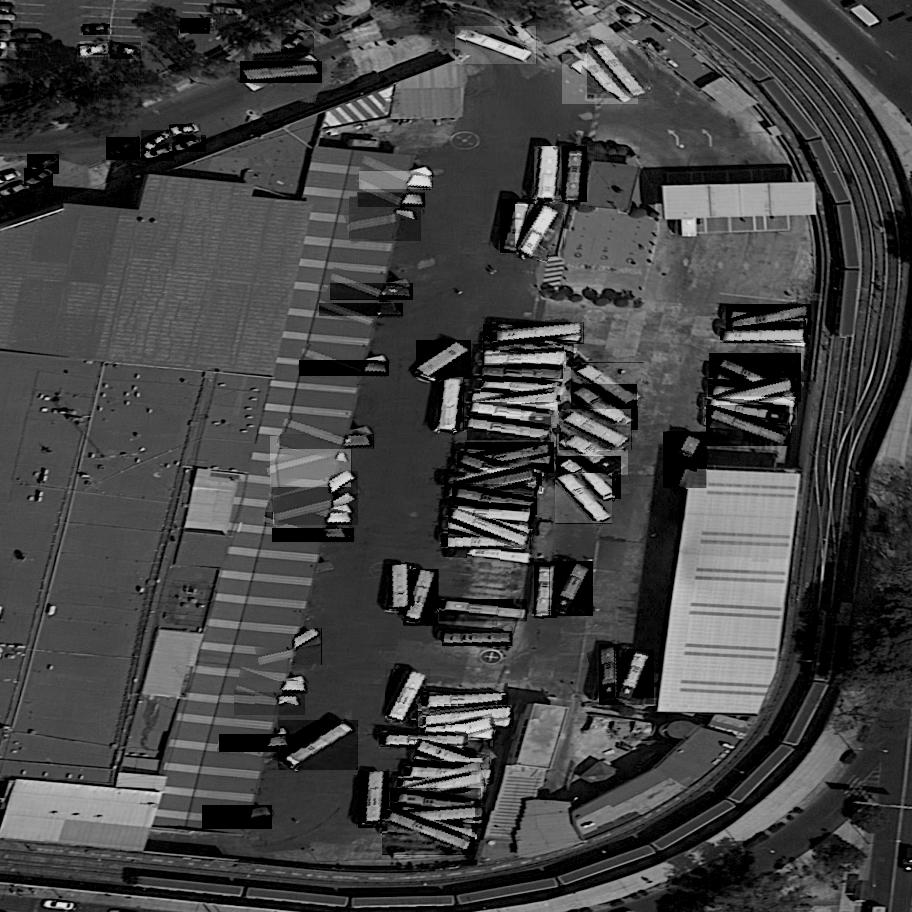large-vehicle: (274, 469, 359, 528), (710, 353, 801, 405), (270, 435, 352, 492), (382, 807, 475, 857), (278, 717, 358, 775), (562, 51, 639, 108), (588, 35, 649, 105), (483, 324, 575, 368), (571, 359, 644, 410), (449, 506, 531, 550), (572, 380, 638, 434), (351, 195, 422, 245), (554, 469, 612, 530), (707, 405, 791, 447), (559, 406, 632, 453), (458, 452, 543, 492), (455, 24, 537, 65), (557, 431, 628, 478), (556, 453, 621, 504), (707, 378, 800, 412), (443, 469, 537, 502), (385, 666, 431, 729), (516, 202, 565, 261), (463, 443, 555, 474), (416, 740, 491, 778), (397, 772, 487, 803), (663, 430, 708, 490), (453, 485, 537, 517), (550, 559, 594, 619), (391, 788, 481, 817), (725, 305, 812, 335), (704, 397, 797, 425), (416, 338, 472, 383), (259, 627, 322, 667), (616, 647, 655, 707), (470, 402, 558, 428), (418, 705, 513, 728), (404, 568, 441, 627), (425, 717, 496, 747), (500, 197, 536, 256), (439, 600, 527, 624), (468, 417, 552, 442), (481, 376, 567, 400), (491, 323, 584, 345), (234, 689, 305, 717), (241, 61, 322, 85), (359, 769, 390, 830), (471, 391, 560, 412), (202, 805, 272, 831), (397, 807, 486, 827), (448, 504, 532, 524), (467, 545, 535, 568), (404, 767, 494, 784), (534, 145, 561, 200), (422, 692, 508, 709), (439, 376, 465, 432), (358, 171, 433, 190), (563, 145, 587, 204), (442, 534, 529, 550), (281, 434, 373, 449), (299, 361, 389, 376), (220, 734, 291, 753), (484, 352, 567, 368), (330, 284, 413, 300), (600, 645, 622, 705), (319, 303, 403, 318), (535, 562, 557, 618), (272, 528, 354, 543), (481, 365, 563, 379), (380, 734, 468, 747), (721, 329, 807, 342), (389, 564, 412, 611), (265, 512, 352, 524), (442, 632, 512, 646), (358, 193, 425, 207), (238, 682, 307, 692)
small-vehicle: (282, 28, 314, 58), (107, 136, 141, 163), (141, 127, 174, 154), (27, 154, 60, 177), (24, 166, 53, 192), (141, 143, 174, 164), (173, 134, 207, 154), (110, 42, 142, 60), (78, 42, 111, 57), (180, 19, 211, 34), (169, 125, 201, 138), (84, 25, 109, 34)
